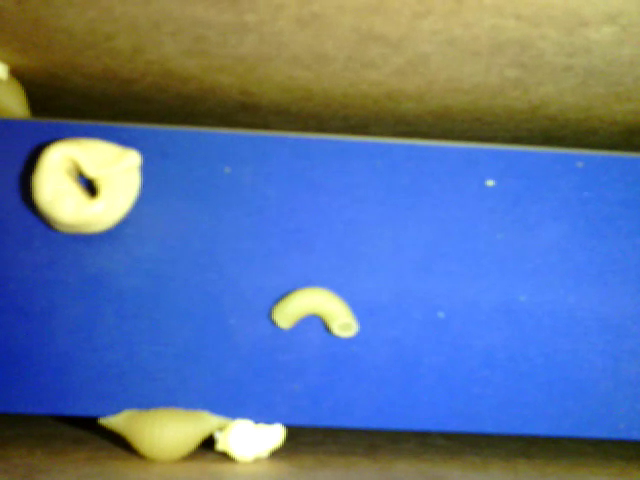elbow: (270, 285, 361, 339)
shell: (95, 411, 231, 461)
tortellini: (29, 137, 146, 235)
